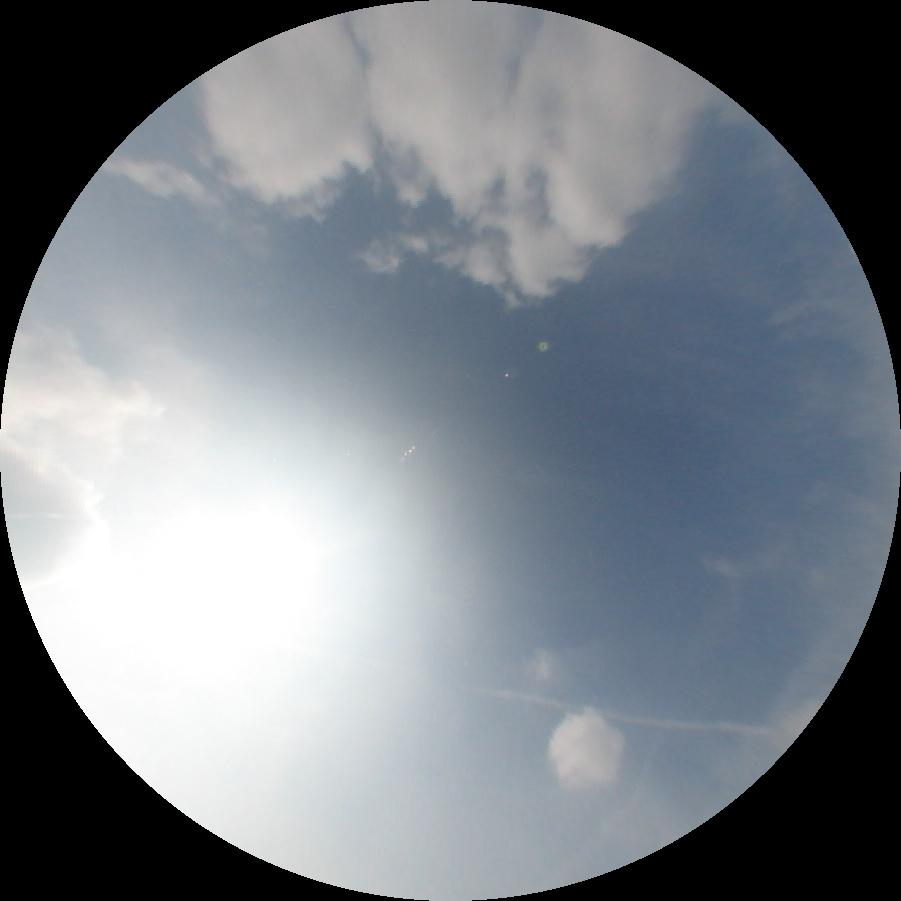contrail old: (468, 686, 765, 736)
sun: (79, 516, 330, 709)
